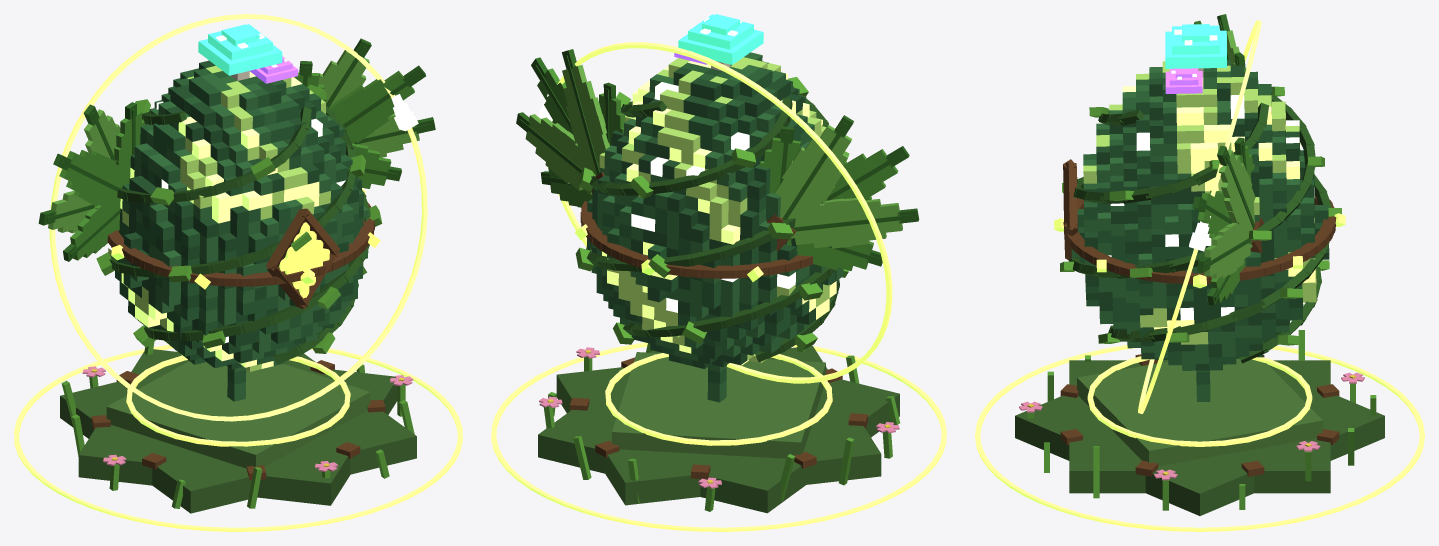
File: egg_epico_bosque_encantado.glb
3 renders of one model, left to right at view 1: azimuth 30°, elevation 25°; view 2: azimuth 150°, elevation 25°; view 3: azimuth 270°, elevation 25°, orthographic.
Visible parts, largest first — view 1: shell_geo, root_geo, egg_geo, wing_R_geo, wing_L_geo, orbit1_geo, floor_rings_geo, crown_geo, emblem_geo; view 2: shell_geo, root_geo, egg_geo, wing_R_geo, wing_L_geo, orbit1_geo, floor_rings_geo, crown_geo; view 3: shell_geo, root_geo, egg_geo, wing_L_geo, floor_rings_geo, crown_geo, orbit1_geo, emblem_geo, wing_R_geo.
Boxes of the visible parts, bbox=[...] form: shell_geo: bbox=[108, 60, 368, 401]; root_geo: bbox=[60, 342, 416, 513]; egg_geo: bbox=[96, 84, 382, 364]; wing_R_geo: bbox=[38, 102, 145, 261]; wing_L_geo: bbox=[294, 38, 435, 188]; orbit1_geo: bbox=[49, 14, 427, 421]; floor_rings_geo: bbox=[14, 345, 462, 531]; crown_geo: bbox=[198, 24, 298, 83]; emblem_geo: bbox=[266, 208, 339, 308]; shell_geo: bbox=[586, 52, 843, 402]; root_geo: bbox=[538, 343, 900, 513]; egg_geo: bbox=[575, 77, 849, 362]; wing_R_geo: bbox=[760, 115, 919, 270]; wing_L_geo: bbox=[516, 49, 625, 207]; orbit1_geo: bbox=[538, 42, 892, 383]; floor_rings_geo: bbox=[491, 342, 946, 531]; crown_geo: bbox=[674, 14, 763, 71]; shell_geo: bbox=[1071, 60, 1329, 401]; root_geo: bbox=[1015, 330, 1384, 515]; egg_geo: bbox=[1054, 86, 1345, 363]; wing_L_geo: bbox=[1192, 137, 1264, 305]; floor_rings_geo: bbox=[975, 345, 1424, 531]; crown_geo: bbox=[1165, 24, 1226, 93]; orbit1_geo: bbox=[1138, 20, 1261, 413]; emblem_geo: bbox=[1063, 159, 1077, 260]; wing_R_geo: bbox=[1194, 14, 1246, 71].
Bounding box in the file's own units: 7.45 × 7.32 × 7.31.
